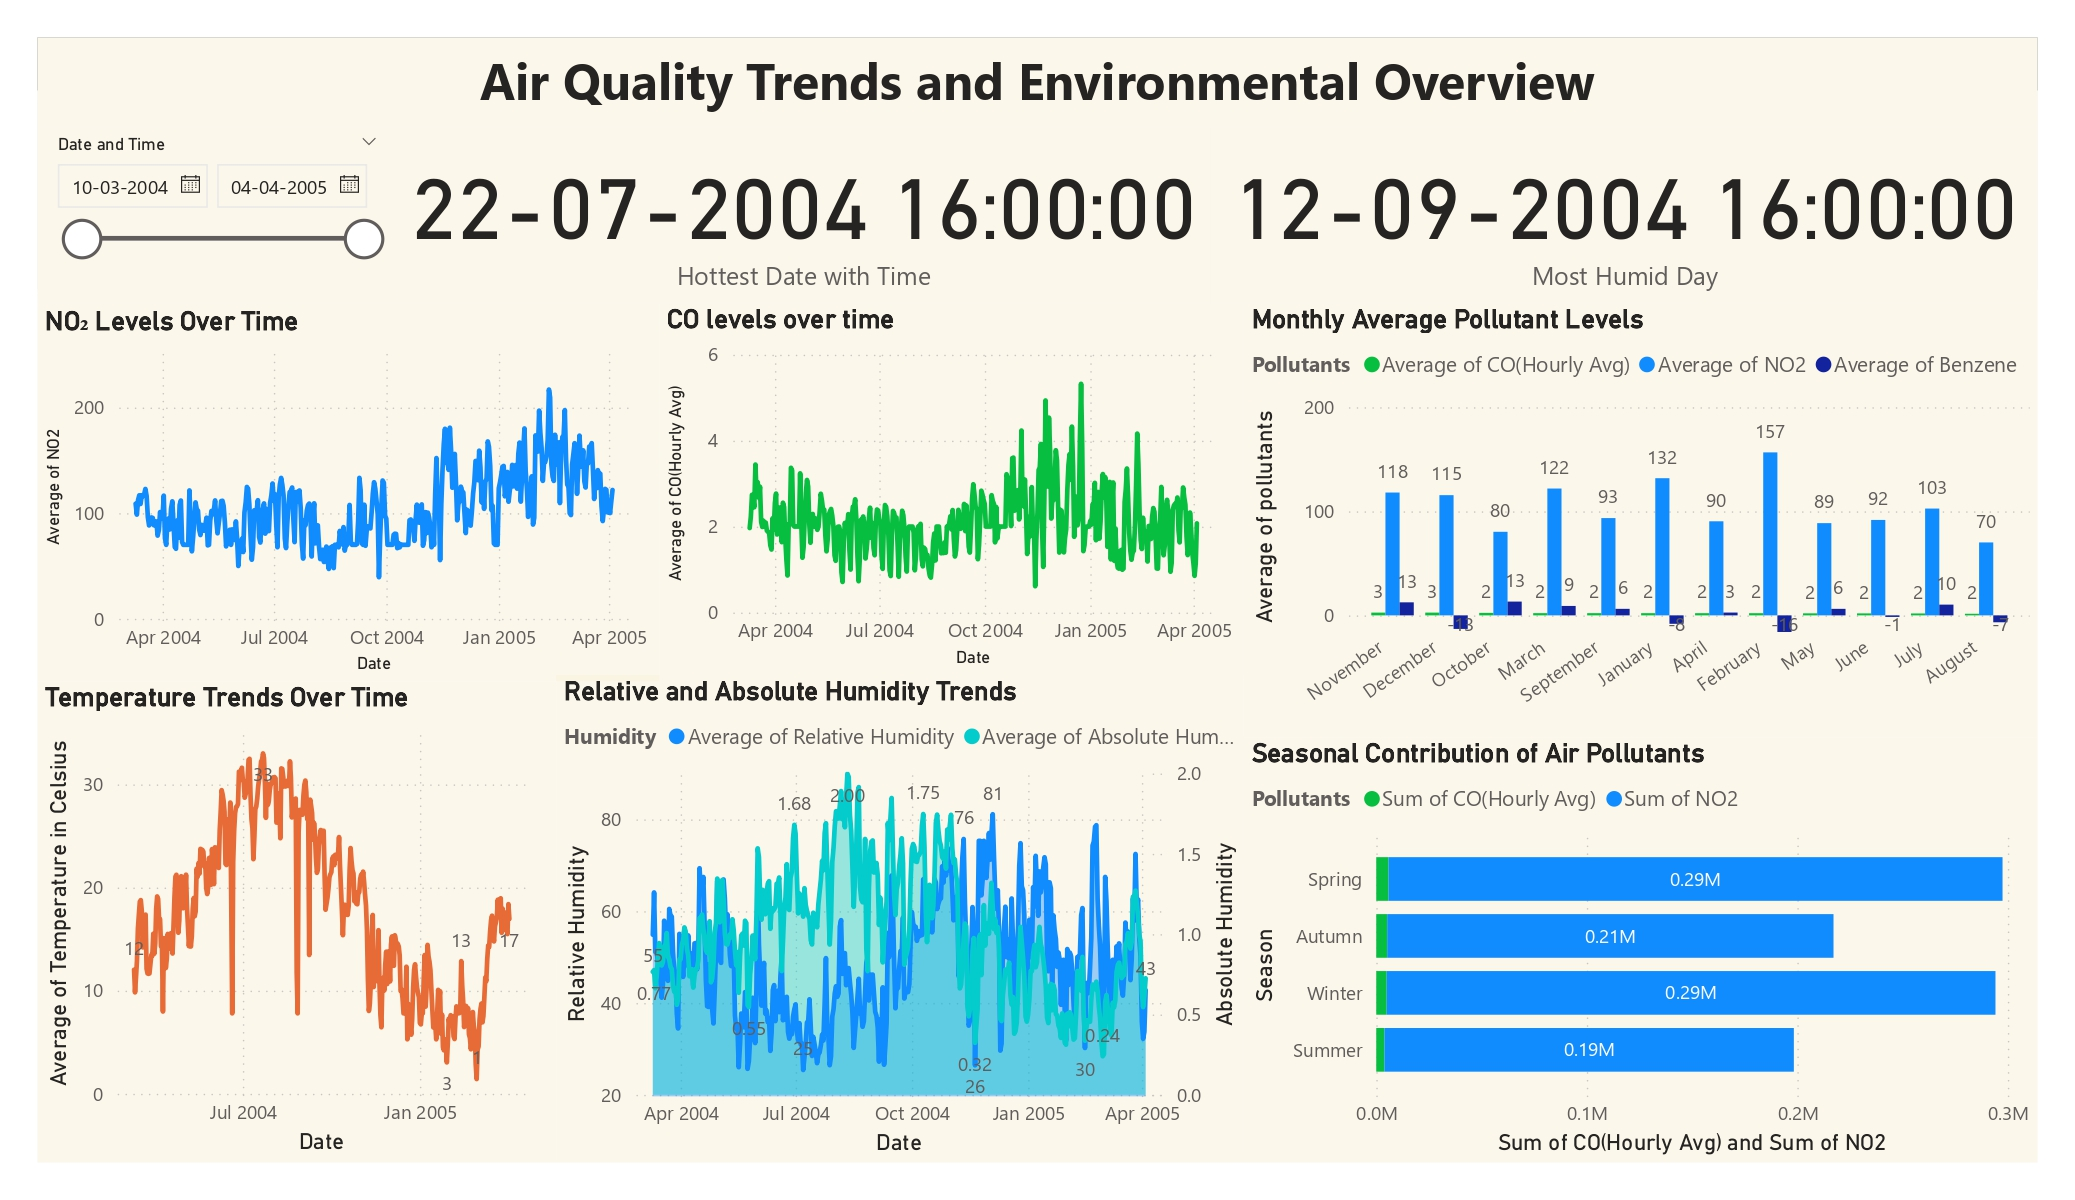

This screenshot's page, from the dashboard's own definition file:
{"tool":"powerbi","page":{"name":"Page Primary Environmental Metrics","canvas":[1280,720],"ordinal":0},"visuals":[{"type":"textbox","box":[0,0,1280,56.7],"z":0},{"type":"slicer","fields":{"Values":["AirQualityUCI.Date and Time"]},"box":[0,56.7,230,113.3],"z":1000},{"type":"lineChart","title":"NO₂ Levels Over Time","fields":{"Y":["Avg(AirQualityUCI.NO2)"],"Category":["AirQualityUCI.Date and Time Hierarchy.Year","AirQualityUCI.Date and Time Hierarchy.Quarter","AirQualityUCI.Date and Time Hierarchy.Month","AirQualityUCI.Date and Time Hierarchy.Day","AirQualityUCI.Date and Time Hierarchy.Date"]},"box":[0,170,398.3,241.7],"z":2000},{"type":"lineChart","title":"CO levels over time","fields":{"Category":["AirQualityUCI.Date and Time Hierarchy.Year","AirQualityUCI.Date and Time Hierarchy.Quarter","AirQualityUCI.Date and Time Hierarchy.Month","AirQualityUCI.Date and Time Hierarchy.Day","AirQualityUCI.Date and Time Hierarchy.Date"],"Y":["Avg(AirQualityUCI.CO(Hourly Avg))"]},"box":[398.3,170,373.3,238.3],"z":3000},{"type":"clusteredColumnChart","title":"Monthly Average Pollutant Levels","fields":{"Category":["AirQualityUCI.Date and Time Hierarchy.Month"],"Y":["Avg(AirQualityUCI.CO(Hourly Avg))","Avg(AirQualityUCI.NO2)","Avg(AirQualityUCI.Benzene)"]},"box":[771.7,170,508.3,278.3],"z":4000},{"type":"card","fields":{"Values":["AirQualityUCI.Hottest Date with Time"]},"box":[229.9,56.7,521.4,113.3],"z":5000},{"type":"card","fields":{"Values":["AirQualityUCI.Most Humid Day"]},"box":[751.3,56.7,529.5,113.3],"z":6000},{"type":"lineChart","title":"Temperature Trends Over Time","fields":{"Category":["AirQualityUCI.Date"],"Y":["Avg(AirQualityUCI.Temperature in Celsius)"]},"box":[0,411.7,331.7,308.3],"z":8000},{"type":"areaChart","title":"Relative and Absolute Humidity Trends","fields":{"Category":["AirQualityUCI.Date"],"Y":["Avg(AirQualityUCI.Realtive Humidity)"],"Y2":["Avg(AirQualityUCI.Absolute Humidity)"]},"box":[331.7,408.3,440,311.7],"z":9000},{"type":"barChart","title":"Seasonal Contribution of Air Pollutants","fields":{"Category":["AirQualityUCI.Season"],"Y":["Sum(AirQualityUCI.CO(Hourly Avg))","Sum(AirQualityUCI.NO2)"]},"box":[772,448,508,272],"z":10000}]}

Visuals, with their boxes on the page's 1280x720 design canvas (x1, y1, x2, y2). These are canvas units, not pixel positions in the 2075x1200 screenshot, which may show the page scaled, cropped or inside an application window:
textbox: locate(0, 0, 1280, 57)
slicer - AirQualityUCI.Date and Time: locate(0, 57, 230, 170)
"NO₂ Levels Over Time" lineChart: locate(0, 170, 398, 412)
"CO levels over time" lineChart: locate(398, 170, 772, 408)
"Monthly Average Pollutant Levels" clusteredColumnChart: locate(772, 170, 1280, 448)
card - AirQualityUCI.Hottest Date with Time: locate(230, 57, 751, 170)
card - AirQualityUCI.Most Humid Day: locate(751, 57, 1281, 170)
"Temperature Trends Over Time" lineChart: locate(0, 412, 332, 720)
"Relative and Absolute Humidity Trends" areaChart: locate(332, 408, 772, 720)
"Seasonal Contribution of Air Pollutants" barChart: locate(772, 448, 1280, 720)
